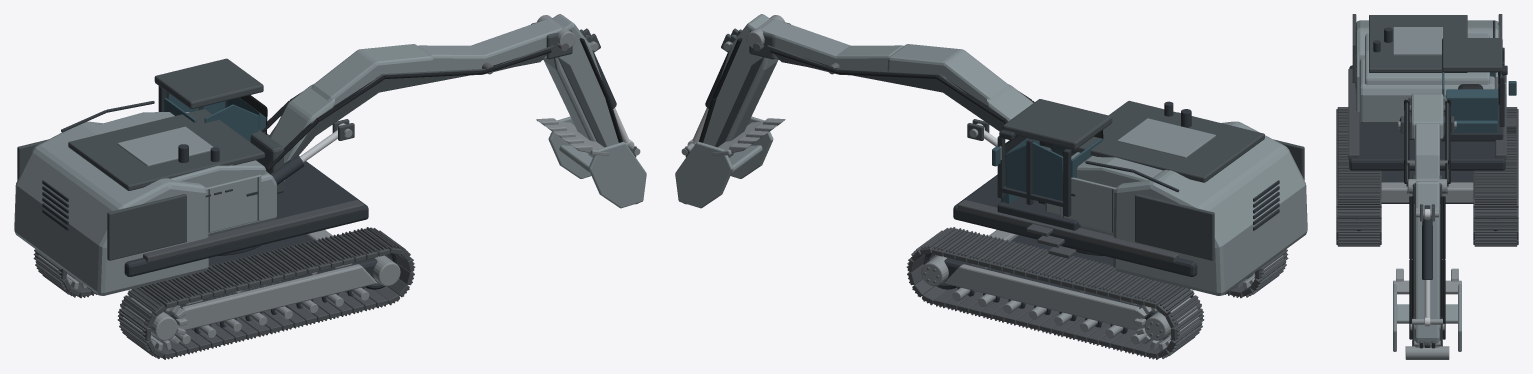
The model's file is cat-320-structural-study.glb.
The picture shows the model from 3 angles, left to right: view 1: azimuth 30°, elevation 25°; view 2: azimuth 150°, elevation 25°; view 3: azimuth 270°, elevation 25°; orthographic projection. The views are drawn at different scales.
Visible parts, largest first — view 1: Counterweight_Core, Engine_Hood_Crown, Upper_Deck_Main, Track_R_Track_Frame_Side, Counterweight_Right_Cheek, Stick_Main_Weldment, Boom_Crown_Box, Boom_Head_Box, Cab_Roof, Bucket_Right_Side_Plate, Upper_Deck_Walkway_R, Engine_House_Service_Door_R (+15 smaller); view 2: Counterweight_Core, Engine_Hood_Crown, Track_L_Track_Frame_Side, Counterweight_Left_Cheek, Stick_Main_Weldment, Boom_Crown_Box, Boom_Head_Box, Cab_Roof, Upper_Deck_Main, Bucket_Left_Side_Plate, Cab_Left_Glass, Upper_Deck_Walkway_L (+15 smaller); view 3: Upper_Deck_Main, Engine_Hood_Crown, Stick_Main_Weldment, Engine_House_Lower_Body, Cab_Roof, Engine_House_Upper_Hood, Cab_Front_Glass, Engine_Hood_Center_Access, Boom_Head_Box, Undercarriage_Crossmember_Front, Boom_Crown_Box, Counterweight_Core (+50 smaller).
Part boxes in pixels (x1,y1,x2,y2): Counterweight_Core: [14, 121, 208, 295]; Engine_Hood_Crown: [68, 109, 264, 190]; Upper_Deck_Main: [124, 156, 368, 276]; Track_R_Track_Frame_Side: [176, 264, 377, 330]; Counterweight_Right_Cheek: [107, 194, 186, 260]; Stick_Main_Weldment: [543, 14, 618, 157]; Boom_Crown_Box: [311, 44, 434, 105]; Boom_Head_Box: [418, 19, 561, 75]; Cab_Roof: [154, 58, 263, 109]; Bucket_Right_Side_Plate: [588, 141, 646, 208]; Upper_Deck_Walkway_R: [143, 200, 363, 262]; Engine_House_Service_Door_R: [205, 174, 261, 232]; Counterweight_Core: [1113, 121, 1307, 295]; Engine_Hood_Crown: [1068, 100, 1264, 182]; Track_L_Track_Frame_Side: [944, 264, 1145, 330]; Counterweight_Left_Cheek: [1135, 194, 1214, 260]; Stick_Main_Weldment: [703, 14, 778, 157]; Boom_Crown_Box: [887, 44, 1010, 105]; Boom_Head_Box: [760, 19, 903, 75]; Cab_Roof: [1003, 99, 1112, 149]; Upper_Deck_Main: [953, 174, 1197, 276]; Bucket_Left_Side_Plate: [675, 141, 733, 208]; Cab_Left_Glass: [1005, 142, 1063, 200]; Upper_Deck_Walkway_L: [958, 200, 1178, 262]; Upper_Deck_Main: [1349, 65, 1505, 170]; Engine_Hood_Crown: [1369, 15, 1467, 72]; Stick_Main_Weldment: [1415, 181, 1439, 347]; Engine_House_Lower_Body: [1359, 59, 1495, 123]; Cab_Roof: [1442, 38, 1502, 72]; Engine_House_Upper_Hood: [1365, 33, 1489, 84]; Cab_Front_Glass: [1446, 89, 1498, 120]; Engine_Hood_Center_Access: [1393, 27, 1442, 55]; Boom_Head_Box: [1415, 123, 1439, 179]; Undercarriage_Crossmember_Front: [1381, 182, 1473, 203]; Boom_Crown_Box: [1411, 93, 1443, 139]; Counterweight_Core: [1355, 20, 1499, 93].
Size of the model in its own units: 9.46 by 3.15 by 3.17.
